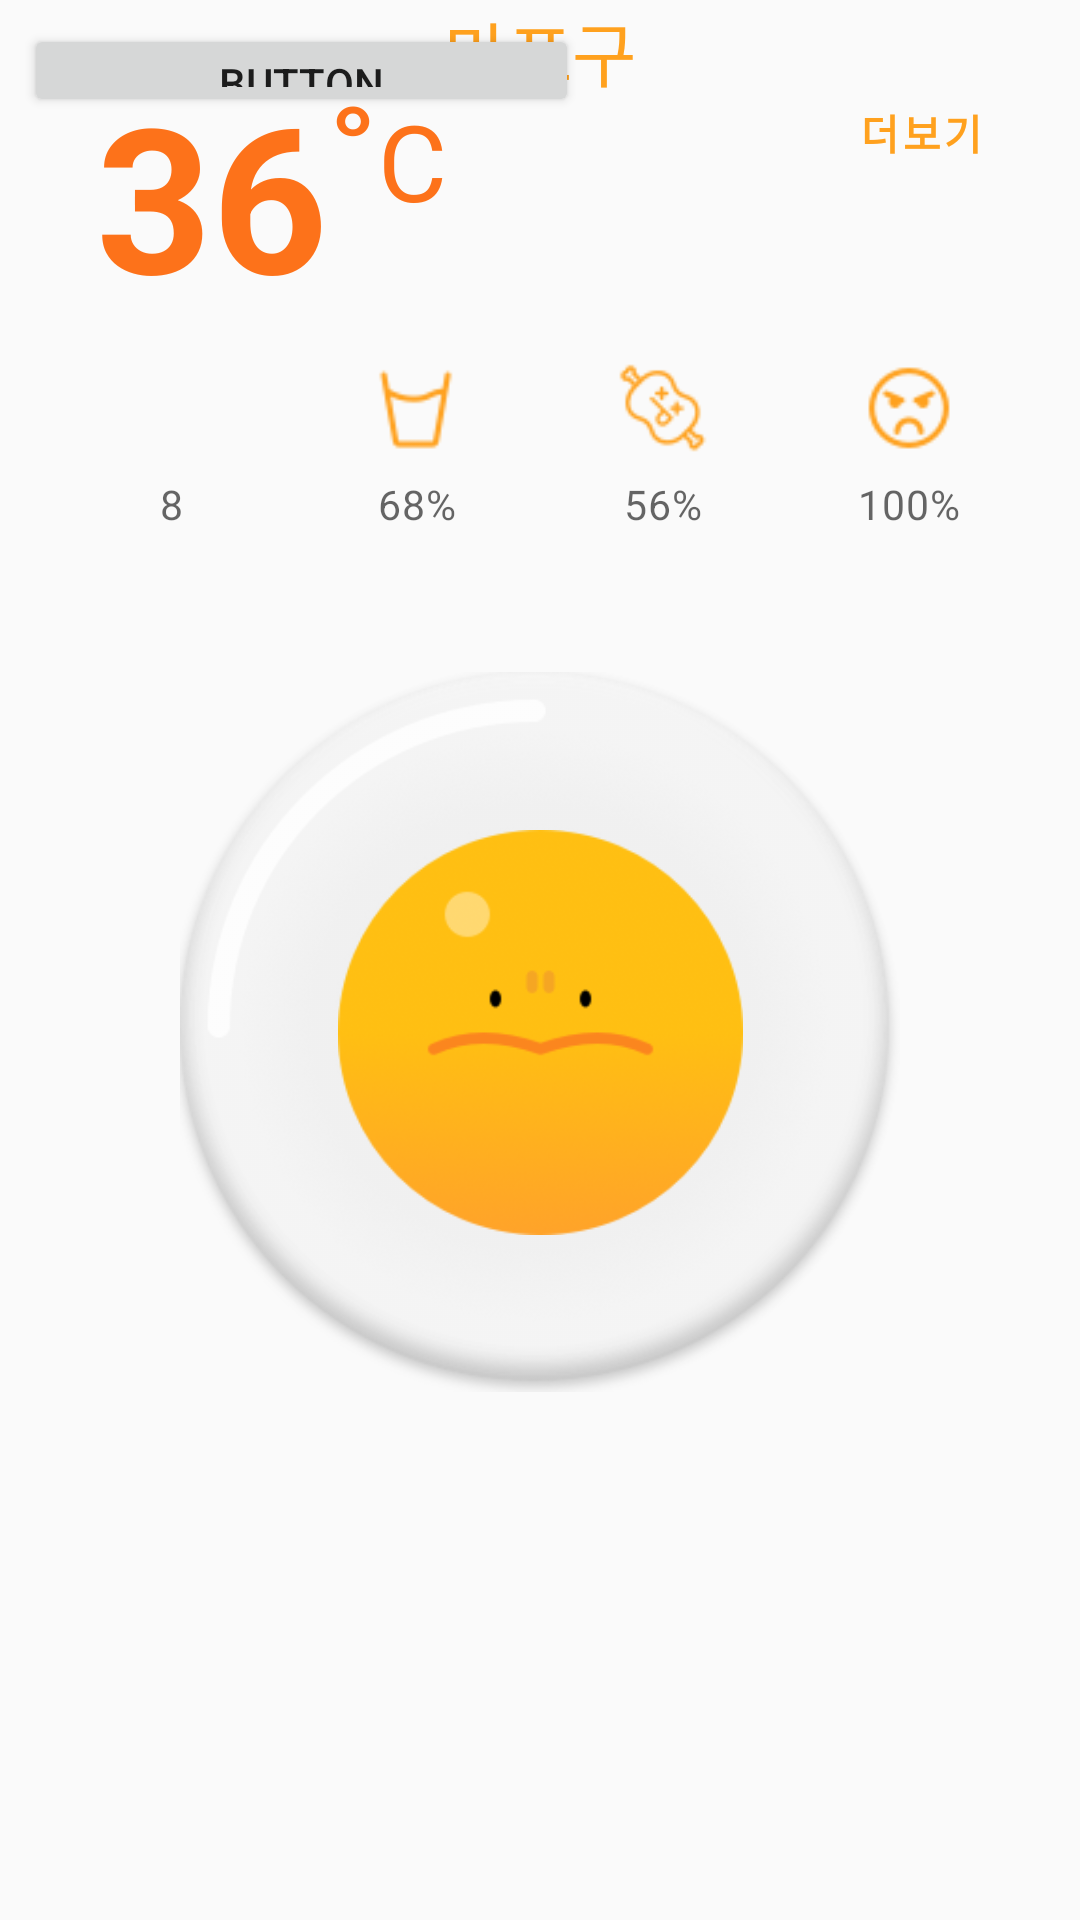

Where to tap for icons on this 1080w x 1920h app screen, as (x,y):
angry: (909,408)
